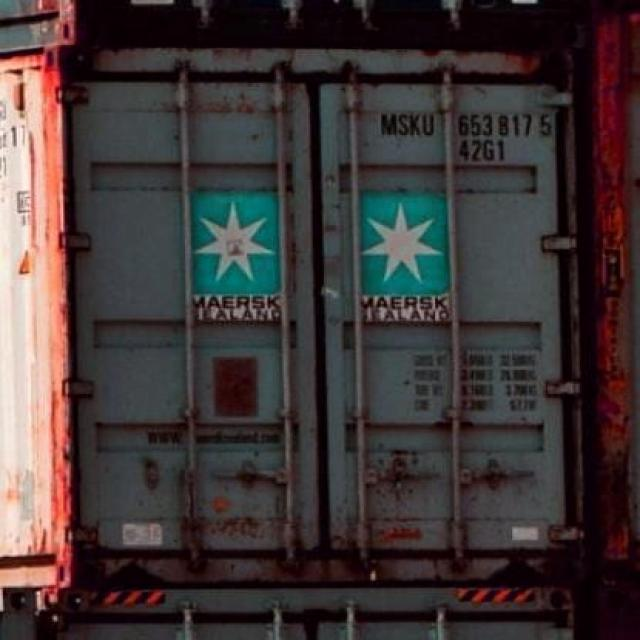ISO: (460, 140, 504, 164)
container_number: (386, 114, 548, 140)
